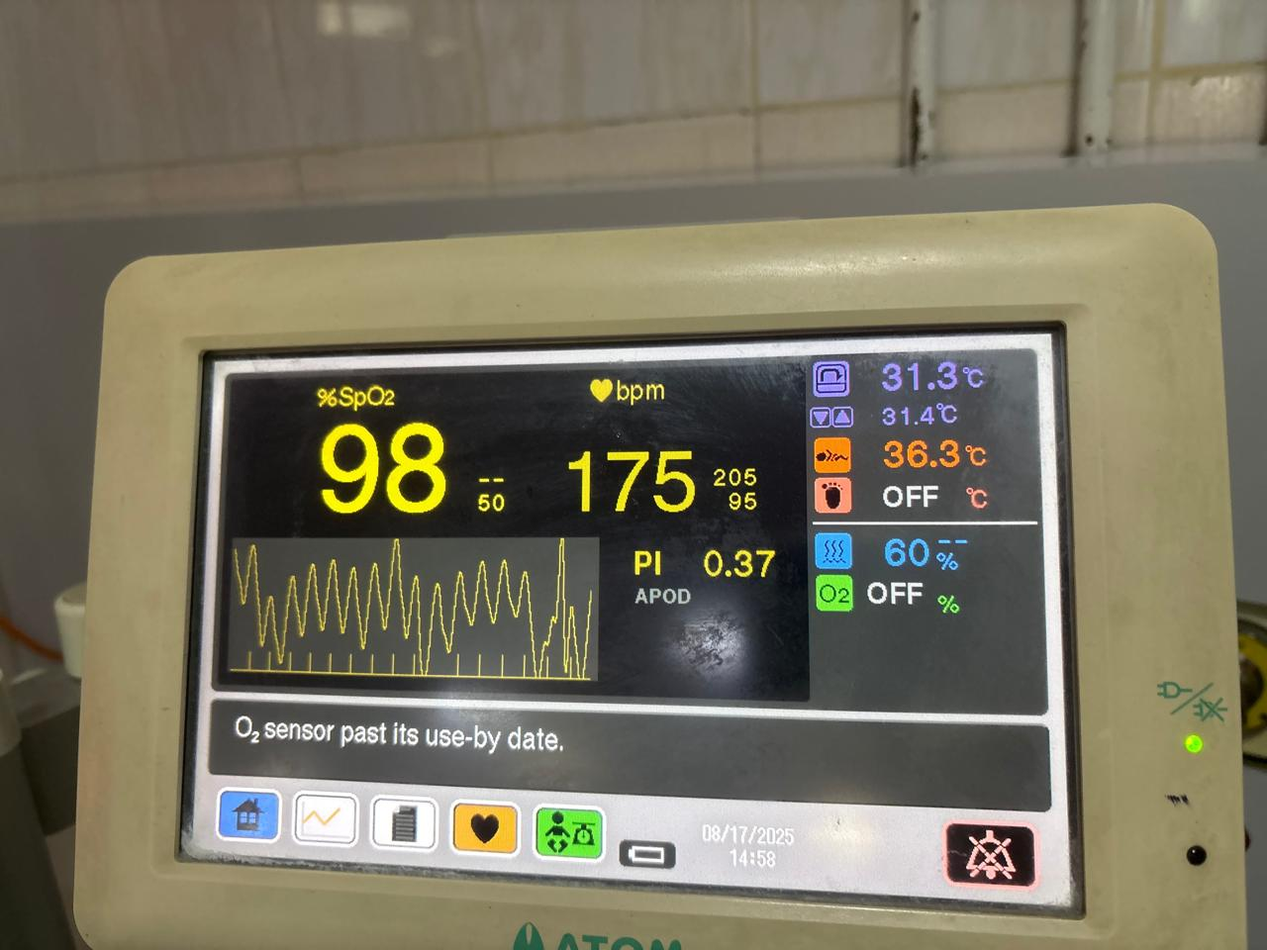air_temp_value: (869, 355, 961, 403)
heart_rate_value: (552, 438, 706, 524)
humidity_value: (871, 527, 937, 574)
skin_temp_value: (866, 430, 962, 481)
spo2_value: (295, 409, 459, 518)
